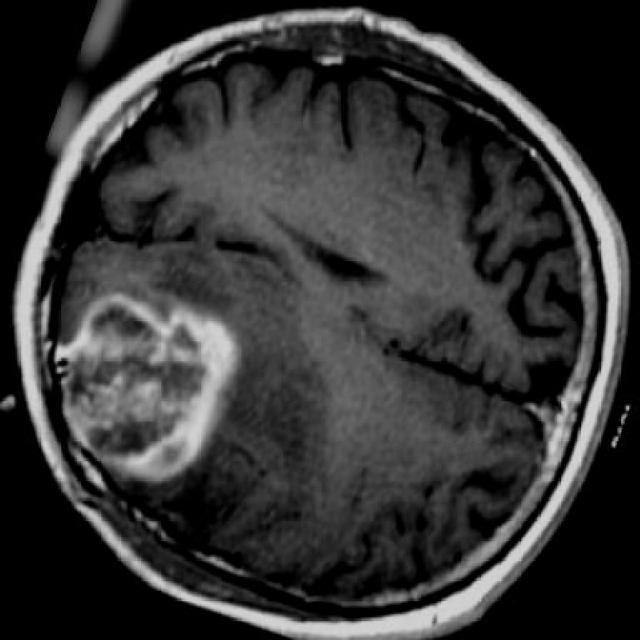Brain-Tumor: (40, 277, 247, 494)
